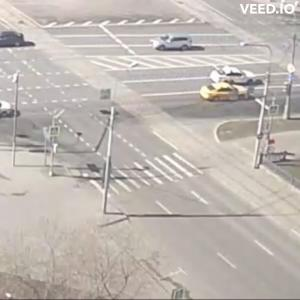car: (201, 81, 252, 102), (207, 67, 256, 86), (153, 36, 195, 53), (1, 29, 26, 51), (1, 100, 14, 119)
